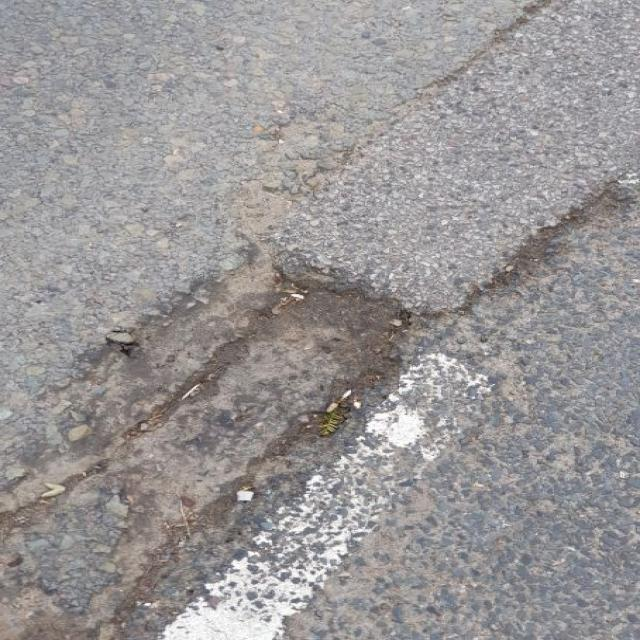pothole: (23, 230, 510, 540)
